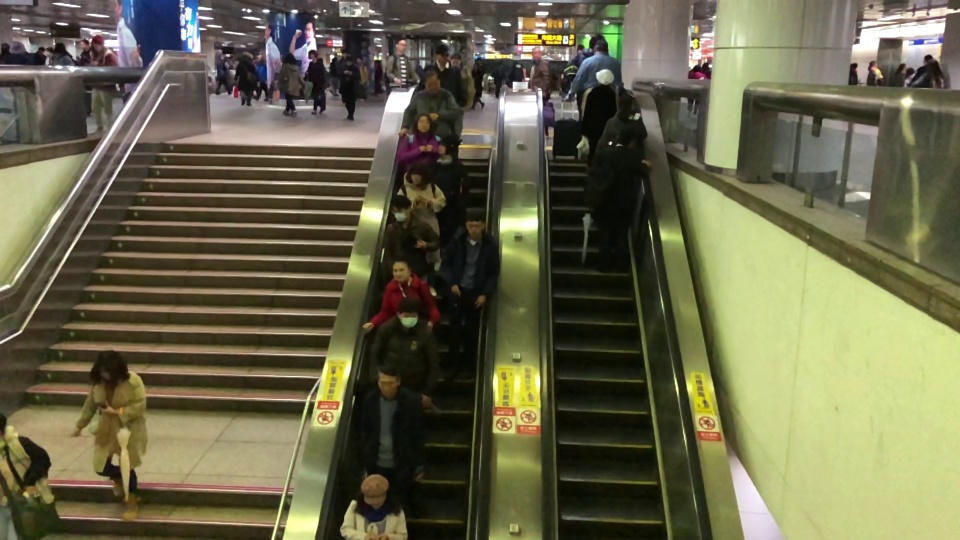person_head: (93, 348, 127, 386), (360, 473, 389, 508), (376, 359, 400, 397), (395, 297, 419, 327), (406, 161, 430, 190), (466, 206, 485, 236), (392, 196, 413, 223), (414, 114, 434, 138), (595, 69, 617, 89), (391, 259, 410, 282), (617, 124, 634, 149), (431, 43, 447, 69), (422, 70, 439, 93), (616, 87, 631, 112), (90, 34, 104, 57), (592, 38, 608, 57), (392, 37, 406, 55), (450, 52, 463, 68), (531, 46, 544, 62), (284, 52, 295, 66), (867, 58, 878, 71), (896, 59, 906, 73), (906, 64, 914, 79), (79, 38, 88, 50), (344, 55, 353, 66), (309, 51, 317, 62), (695, 63, 702, 73)
person_vbox: (78, 348, 154, 524), (444, 206, 494, 412), (594, 122, 650, 276), (372, 297, 438, 426), (352, 358, 413, 497), (361, 253, 443, 338), (0, 409, 50, 535), (401, 69, 462, 162), (338, 471, 408, 538), (582, 67, 626, 163), (383, 195, 442, 265), (393, 161, 446, 238), (563, 38, 626, 100), (82, 34, 118, 137), (595, 88, 649, 150), (11, 40, 40, 146), (528, 46, 555, 145), (385, 36, 421, 96), (396, 112, 438, 159), (303, 50, 331, 116), (279, 50, 300, 121), (448, 50, 475, 104), (234, 50, 258, 109), (340, 55, 361, 121), (74, 32, 90, 117), (687, 62, 705, 117), (215, 46, 234, 97), (923, 55, 943, 91), (427, 43, 450, 73), (865, 57, 886, 88), (916, 53, 932, 86), (889, 59, 905, 90), (51, 43, 73, 65), (906, 61, 917, 89), (848, 62, 860, 85), (0, 40, 10, 64)
